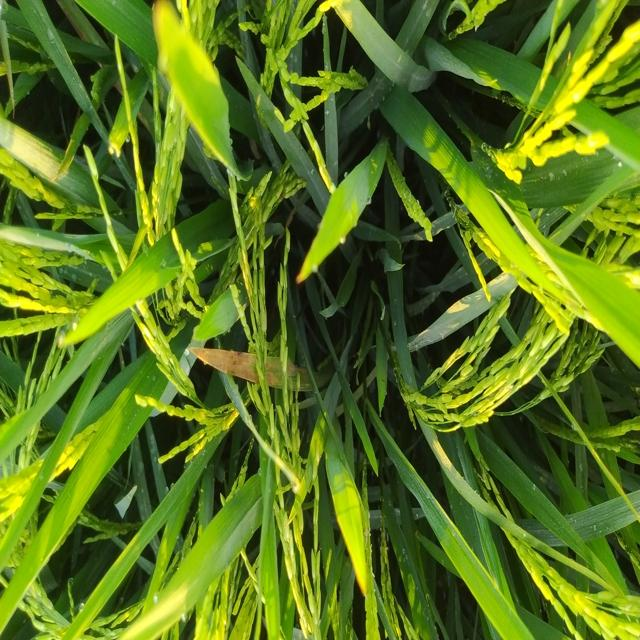Brown spot: (188, 340, 322, 399)
